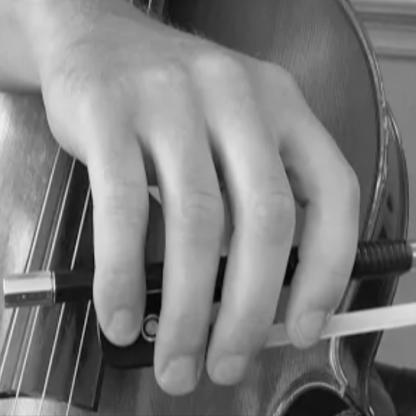good: (64, 27, 366, 394)
